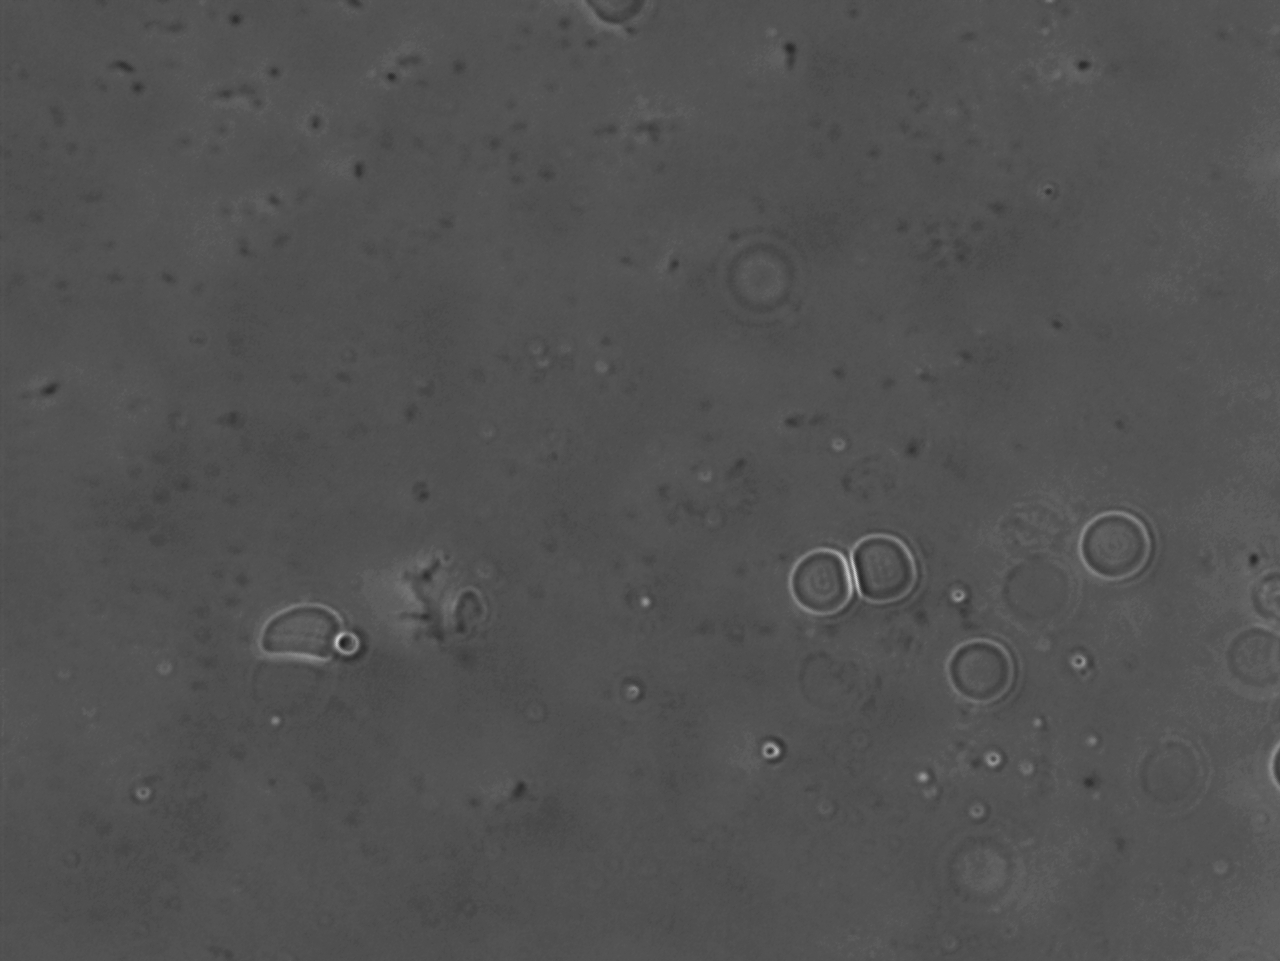depth:0: (1066, 499, 1170, 600), (825, 518, 932, 612), (774, 535, 864, 632), (939, 632, 1033, 720)
